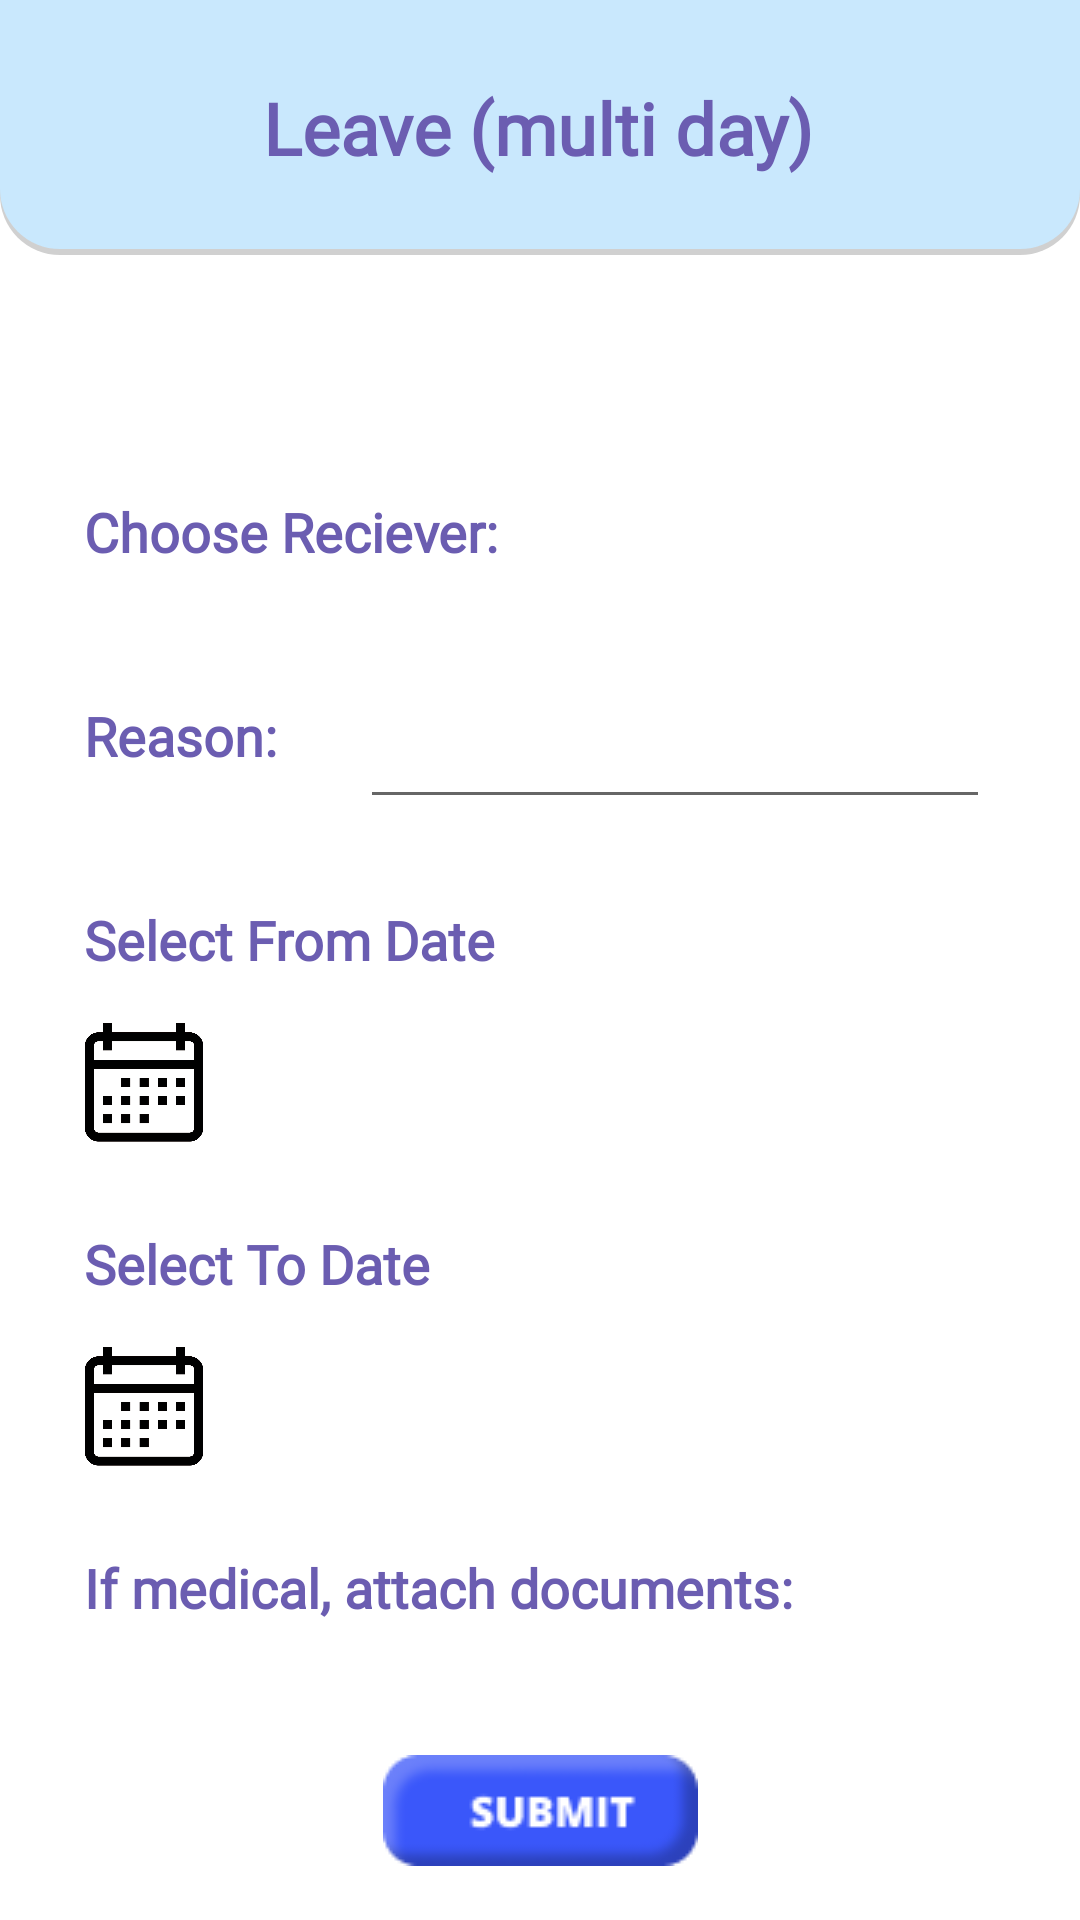

Locate icon controls on the screen. Image size 1080px×1920px, boxes as [x1=x1, y1=y1, x2=x2, y2=y2].
calendar: [x1=85, y1=1023, x2=203, y2=1142], [x1=85, y1=1347, x2=203, y2=1466]
